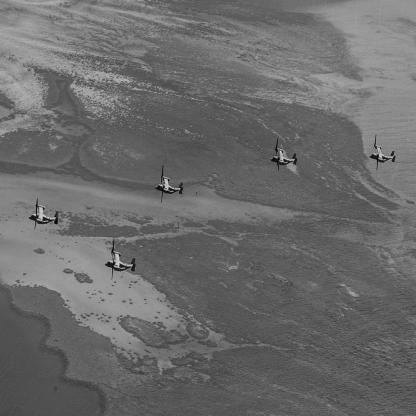V22: (105, 238, 137, 281), (156, 165, 184, 204), (370, 134, 397, 172), (29, 198, 60, 231), (271, 138, 299, 173)
